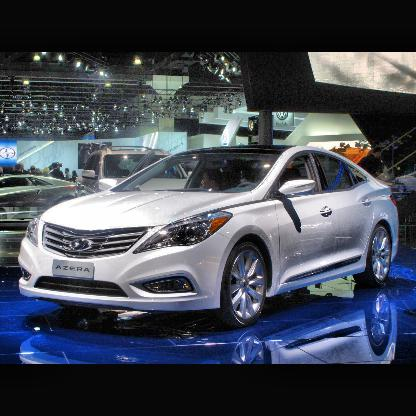Hyundai Azera Sedan 2012: (16, 143, 403, 332)
